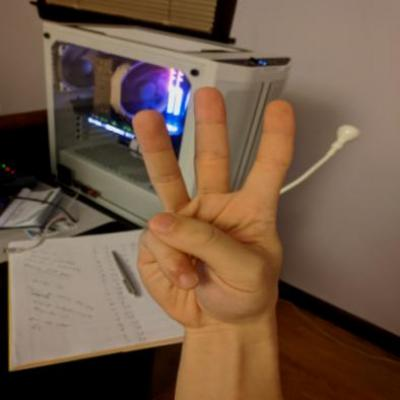hand: (126, 79, 302, 334)
